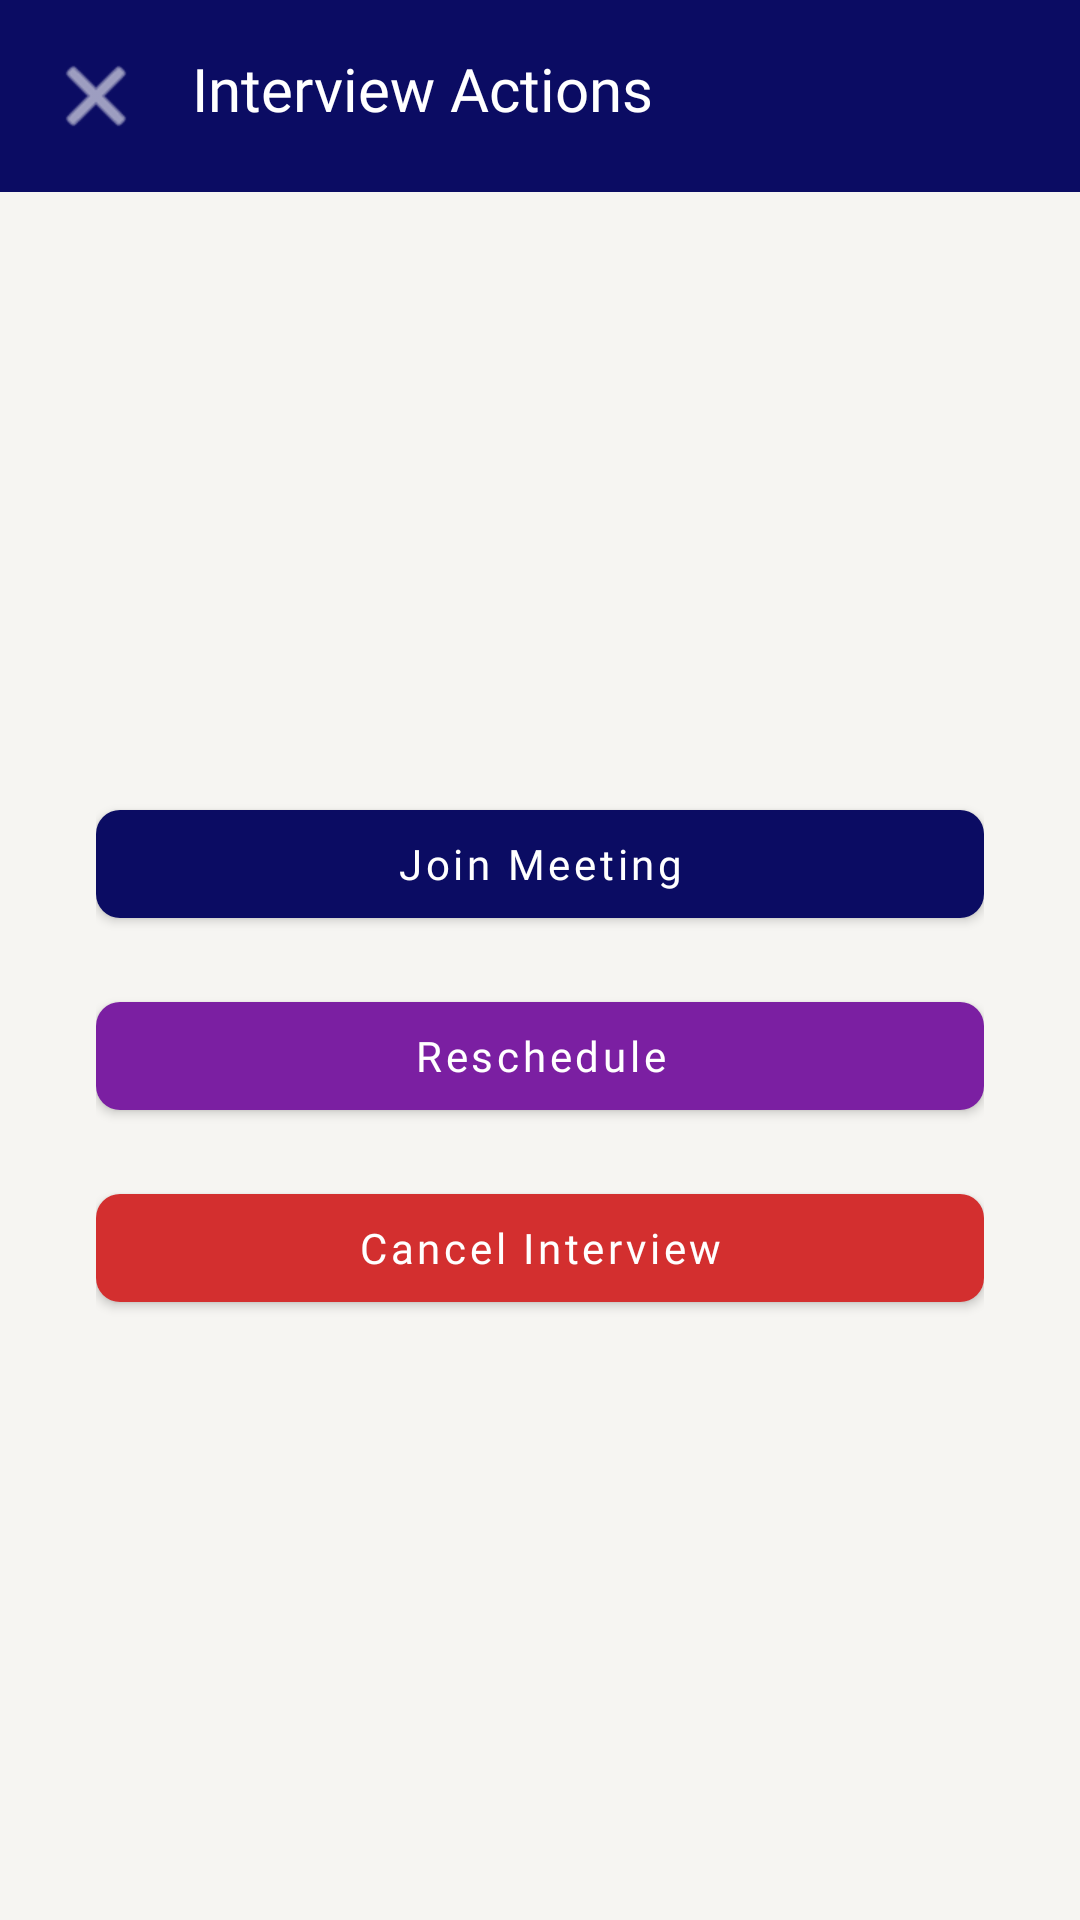

Where icons sit on this 1080w x 1920h app screen, as (x1, y1, x2, y2):
Go back: (66, 66, 126, 126)
